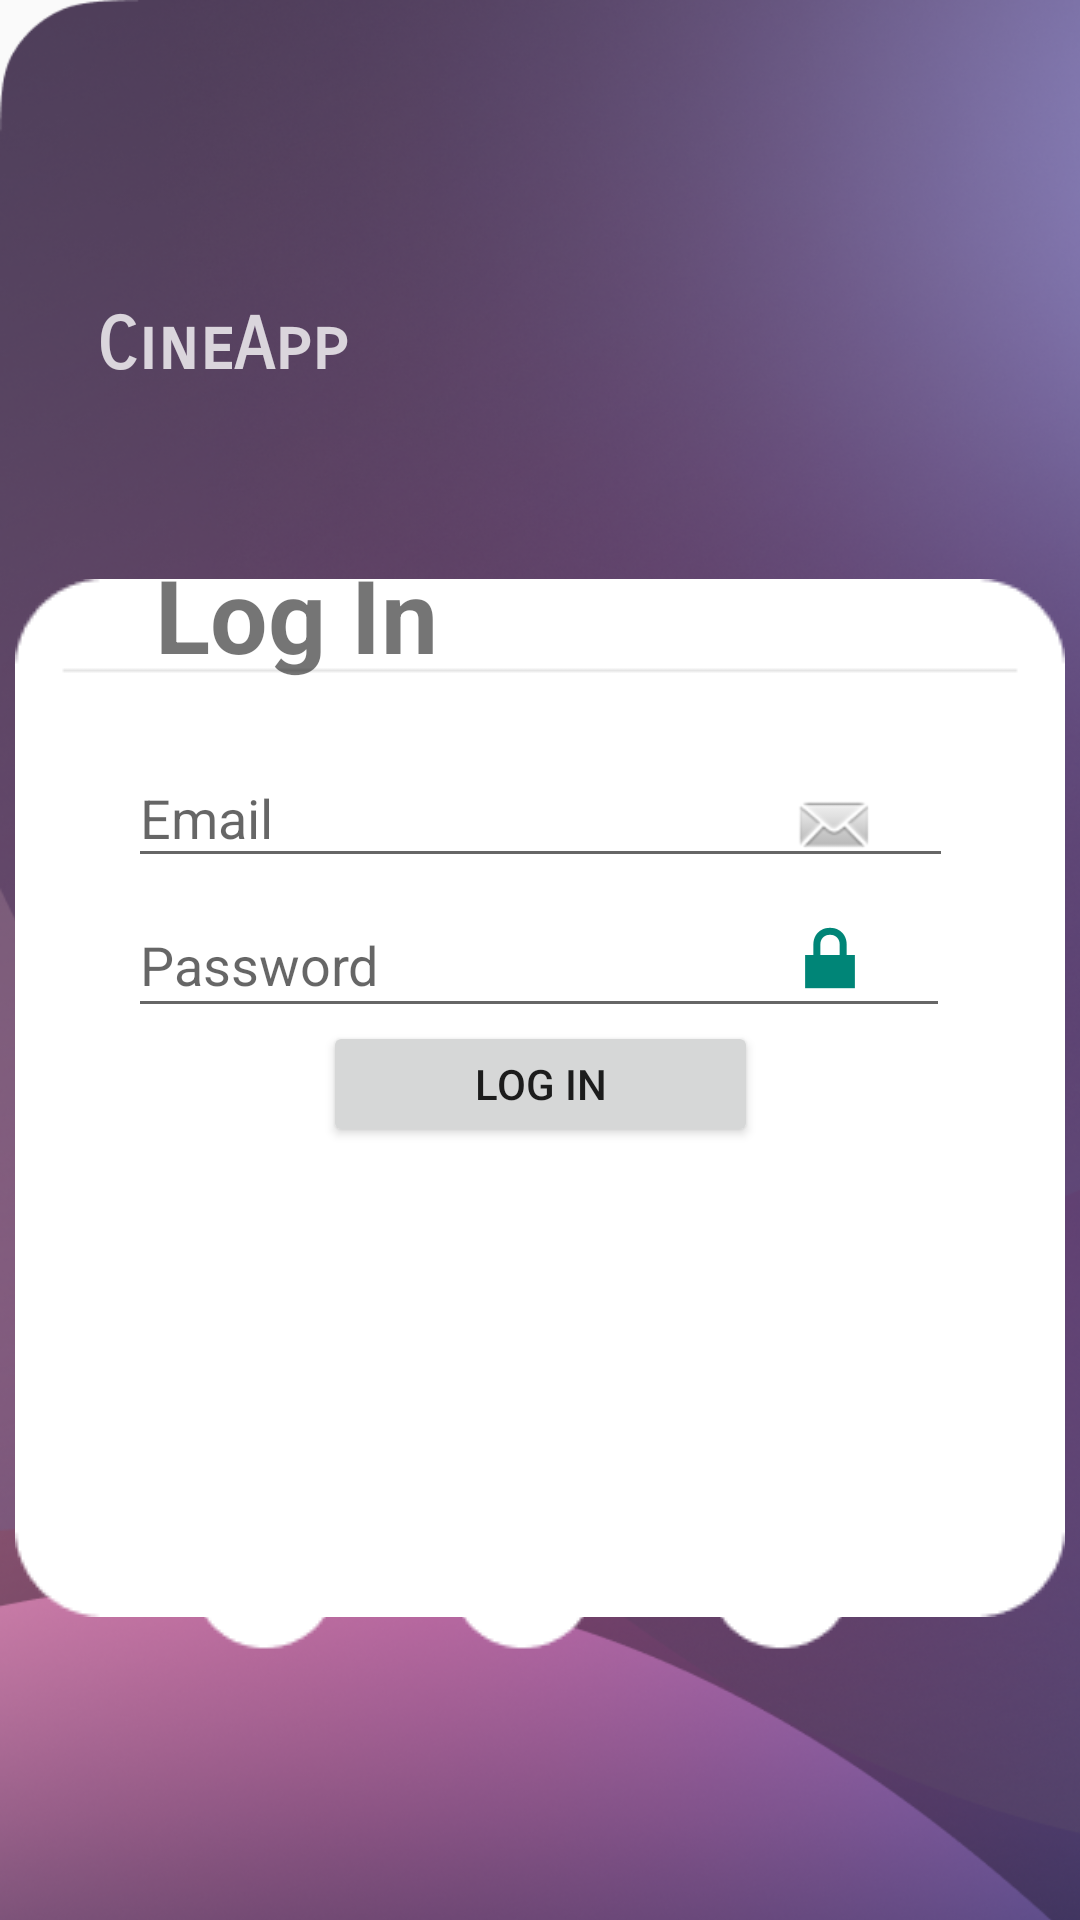

Point at icon controls on the screen. Image size 1080×1920, points as (x=x, y=y).
lock: (x=830, y=958)
